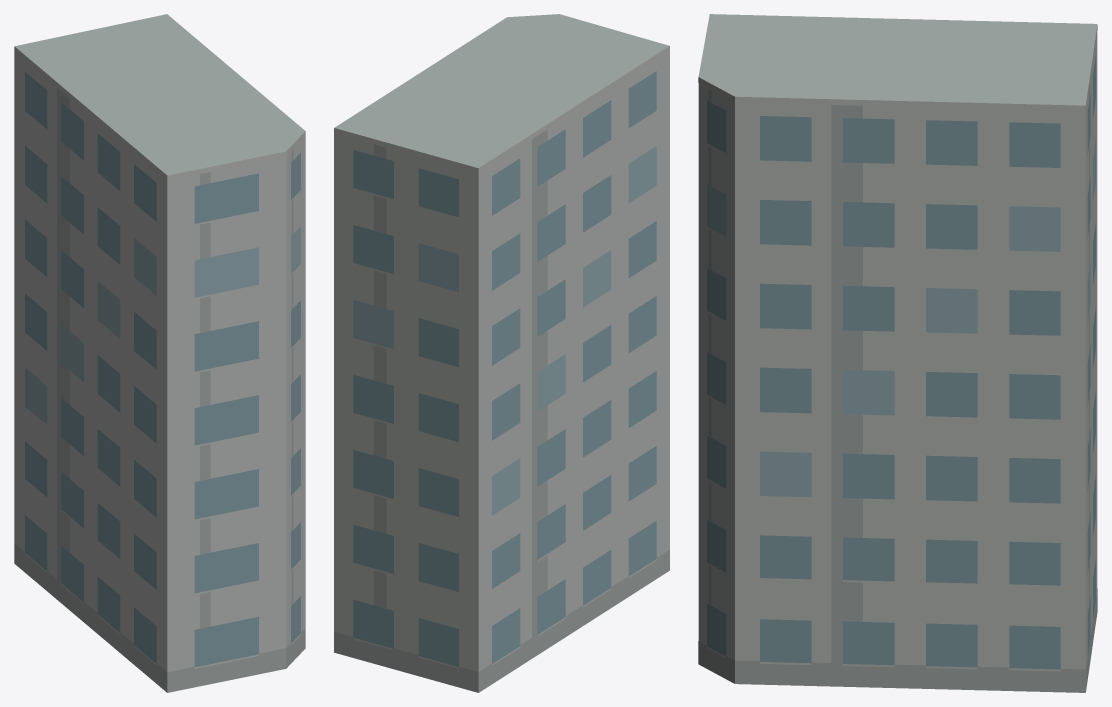
Rendered from survey-upis-33036294.glb.
3 renders of one model, left to right at view 1: azimuth 30°, elevation 25°; view 2: azimuth 150°, elevation 25°; view 3: azimuth 270°, elevation 25°, orthographic. The views are drawn at different scales.
Parts seen in each view (by area): view 1: survey-upis-33036294.tmp; view 2: survey-upis-33036294.tmp; view 3: survey-upis-33036294.tmp.
Part boxes in pixels (x1,y1,x2,y2): survey-upis-33036294.tmp: (14,14,305,692); survey-upis-33036294.tmp: (334,14,669,692); survey-upis-33036294.tmp: (698,14,1097,692).
Size of the model in its own units: 8.18 by 24.4 by 15.04.
